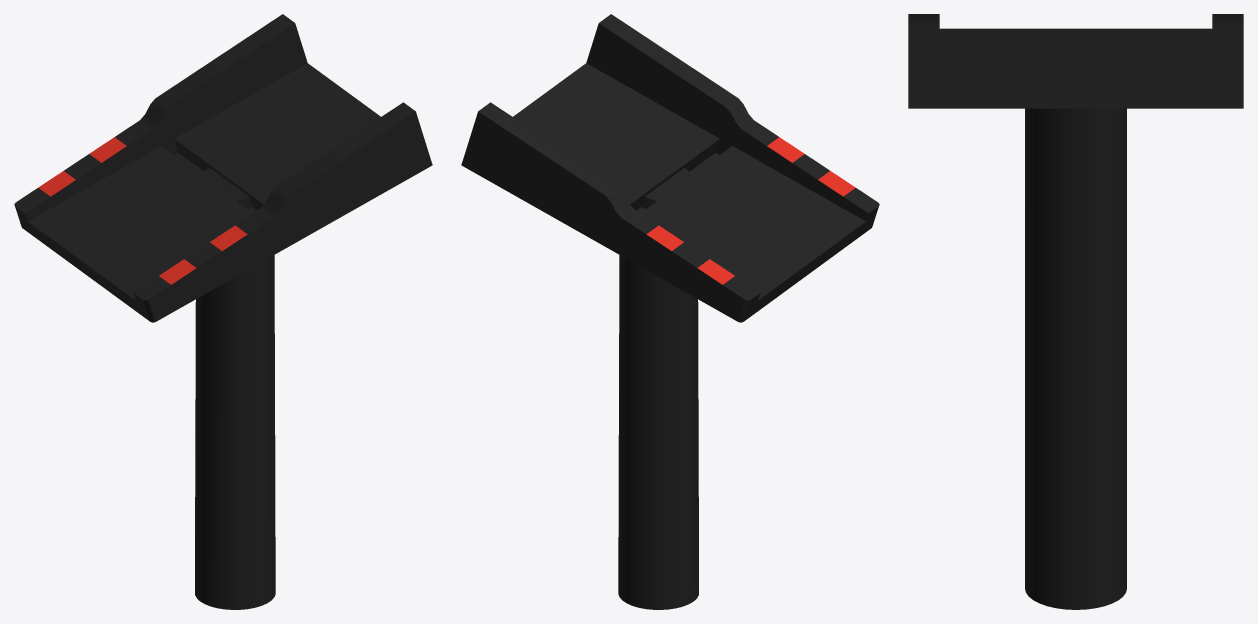
The model's file is VarilPlatfrom.fbx.
3 renders of one model, left to right at view 1: azimuth 30°, elevation 25°; view 2: azimuth 150°, elevation 25°; view 3: azimuth 270°, elevation 25°, orthographic. The views are drawn at different scales.
Parts seen in each view (by area): view 1: Plane.002; view 2: Plane.002; view 3: Plane.002.
Boxes of the visible parts, x1,y1,x2,y2 form: Plane.002: [14, 14, 432, 609]; Plane.002: [461, 14, 879, 609]; Plane.002: [908, 14, 1243, 609].
Bounding box in the file's own units: 151 × 252 × 121.
